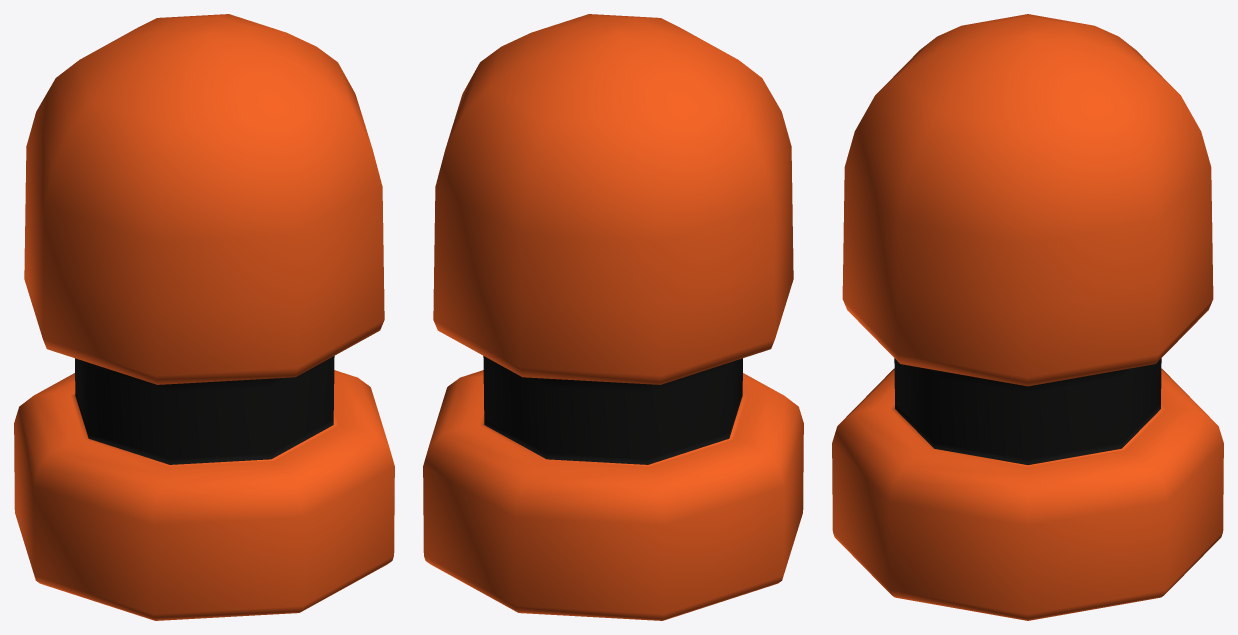
File: obstacles2.fbx
The picture shows the model from 3 angles, left to right: view 1: azimuth 30°, elevation 25°; view 2: azimuth 150°, elevation 25°; view 3: azimuth 270°, elevation 25°; orthographic projection.
Visible parts, largest first — view 1: obstacle2; view 2: obstacle2; view 3: obstacle2.
Part boxes in pixels (x1=…): obstacle2: x1=14, y1=14, x2=394, y2=620; obstacle2: x1=423, y1=14, x2=803, y2=620; obstacle2: x1=832, y1=14, x2=1223, y2=620.
Bounding box in the file's own units: 2.81 × 4.04 × 2.81.
